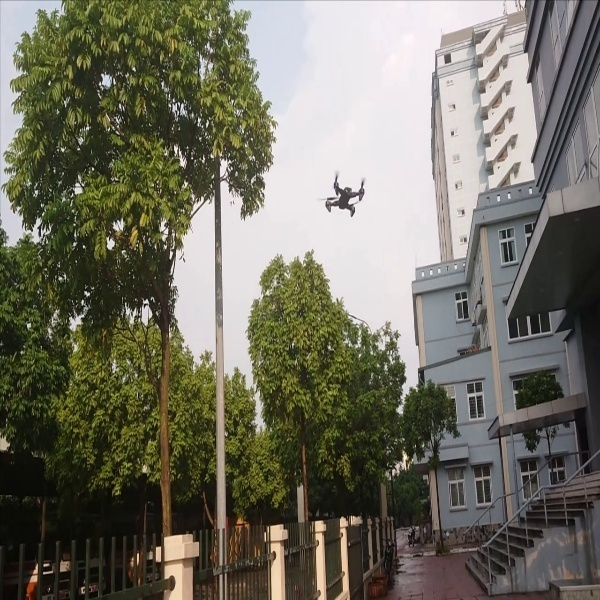drone: (312, 166, 378, 226)
